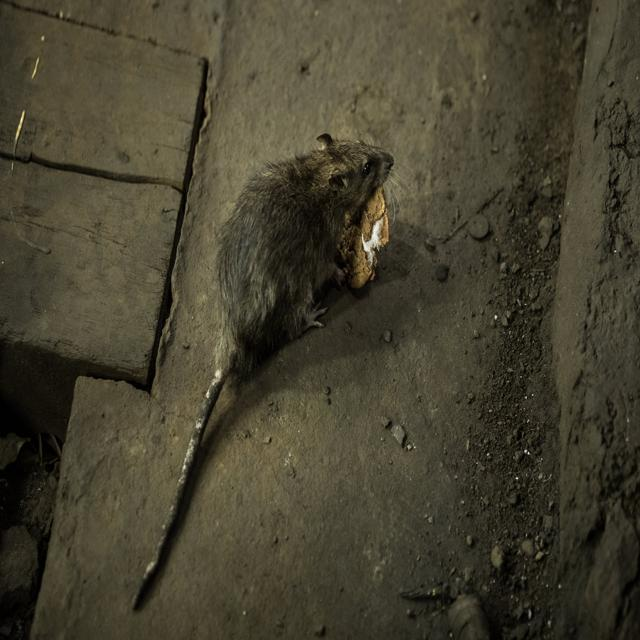rat: (195, 130, 395, 423)
